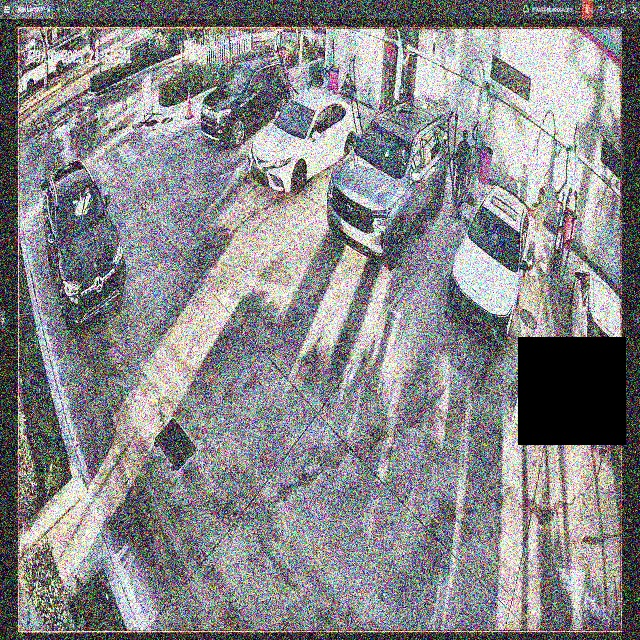Car: (324, 107, 443, 260), (446, 187, 529, 346), (257, 88, 360, 193), (201, 54, 286, 157)
